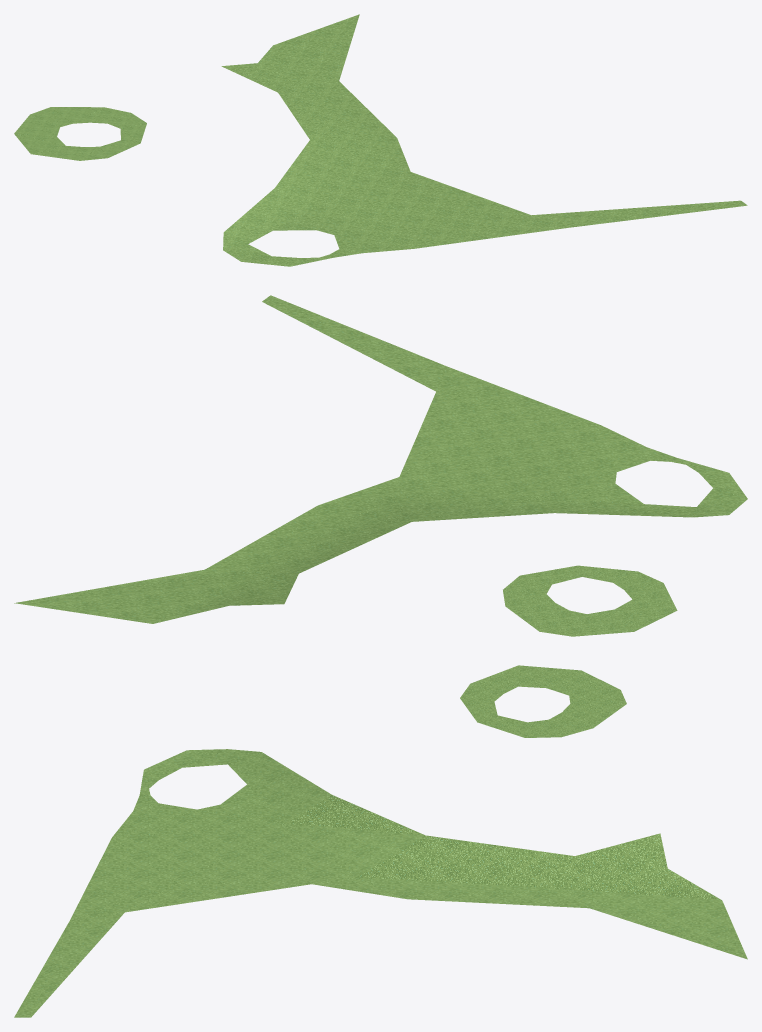
Rendered from kd_stage_135c43_4_137_bounded.glb.
3 renders of one model, top to bottom at view 1: azimuth 30°, elevation 25°; view 2: azimuth 150°, elevation 25°; view 3: azimuth 270°, elevation 25°, orthographic. The views are drawn at different scales.
Visible parts, largest first — view 1: kd_stage_135c43_4_137_bounded; view 2: kd_stage_135c43_4_137_bounded; view 3: kd_stage_135c43_4_137_bounded.
Boxes of the visible parts, bbox=[...] form: kd_stage_135c43_4_137_bounded: bbox=[14, 14, 747, 266]; kd_stage_135c43_4_137_bounded: bbox=[14, 295, 747, 636]; kd_stage_135c43_4_137_bounded: bbox=[14, 665, 747, 1017].
Size of the model in its own units: 4.72 by 0.2605 by 4.64.
Materials: 1 (1 with a texture image).
